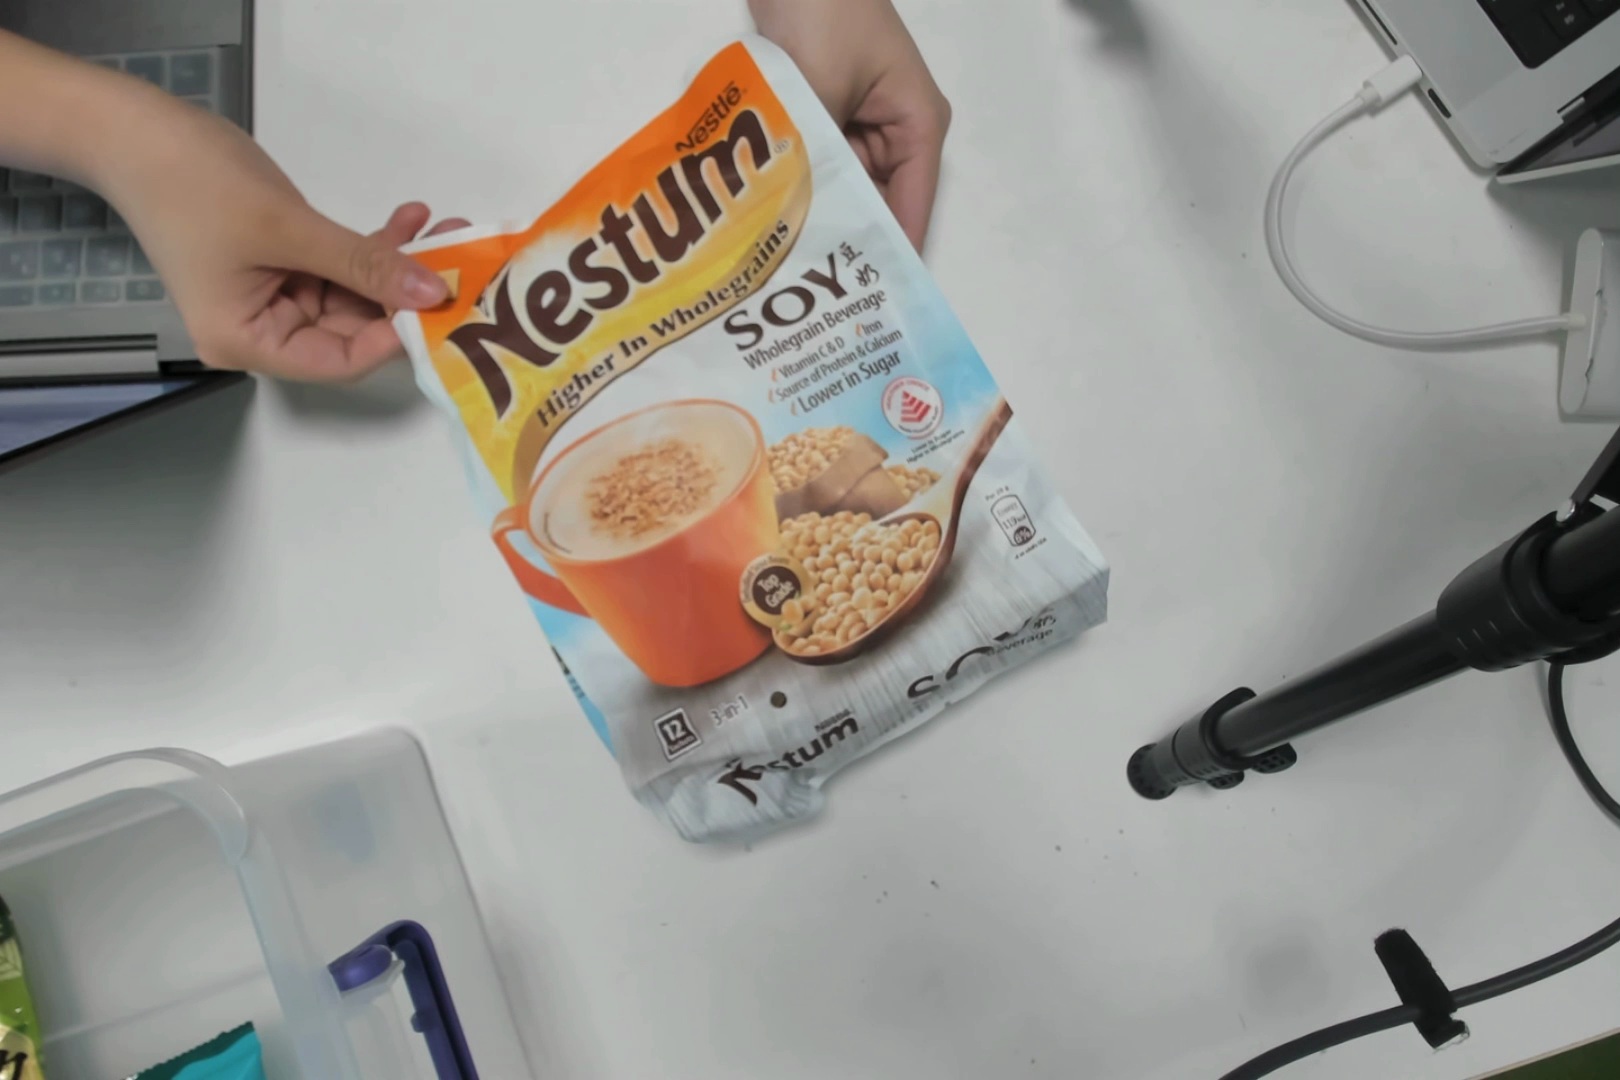e: (512, 107, 969, 817)
